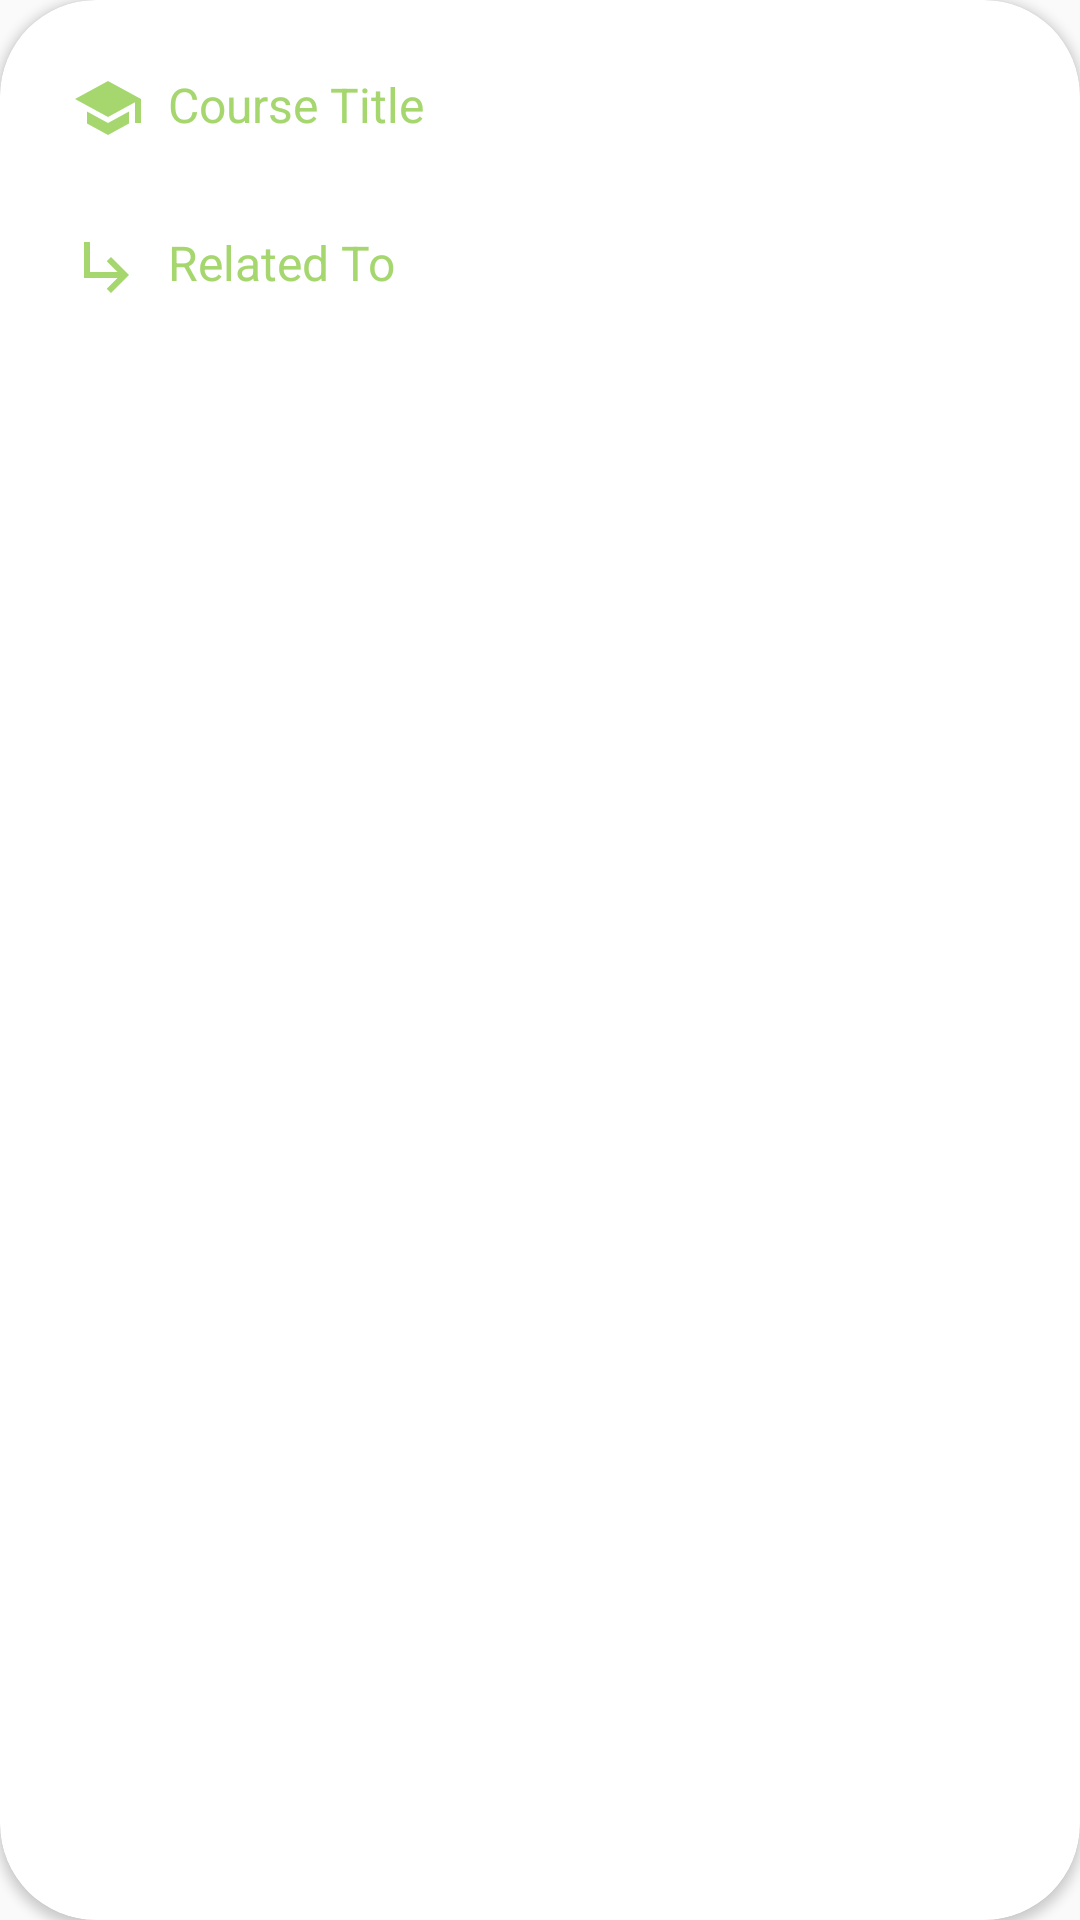

Icon bounding boxes for this 1080*1920 phone screenshot, format detection(x1, y1, x2, y2):
school: detection(75, 81, 141, 135)
subdirectory arrow right: detection(84, 242, 129, 293)
